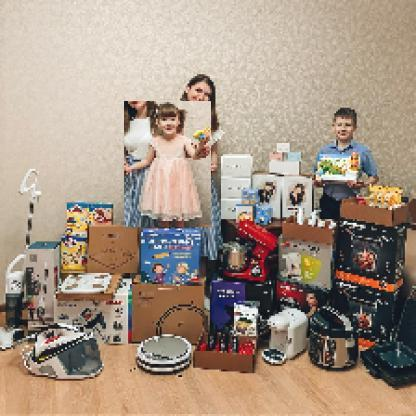child: (125, 102, 213, 229)
